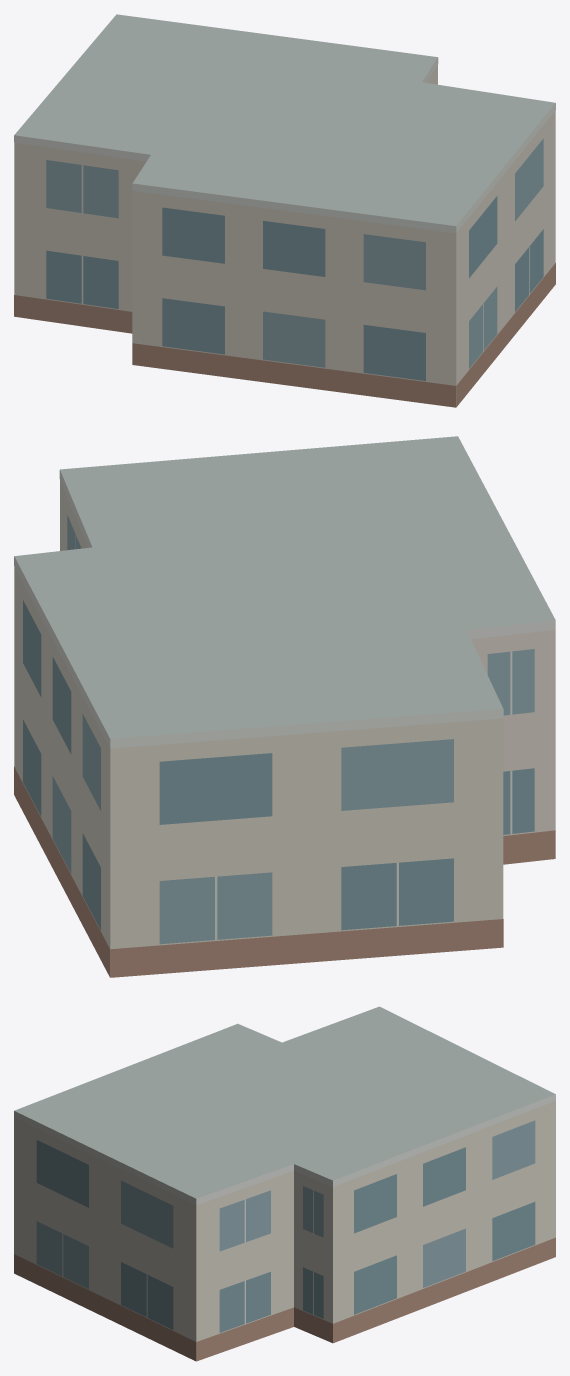
File: survey-upis-32868559.glb
3 views of the same model, one above another, from view 1: azimuth 30°, elevation 25°; view 2: azimuth 150°, elevation 25°; view 3: azimuth 270°, elevation 25° (orthographic). The views are drawn at different scales.
Visible parts, largest first — view 1: survey-upis-32868559.tmp; view 2: survey-upis-32868559.tmp; view 3: survey-upis-32868559.tmp.
Part boxes in pixels (<box>): survey-upis-32868559.tmp: <box>14,14,555,407</box>; survey-upis-32868559.tmp: <box>14,436,555,977</box>; survey-upis-32868559.tmp: <box>14,1006,555,1361</box>.
Size of the model in its own units: 15.47 by 6.1 by 18.42.
